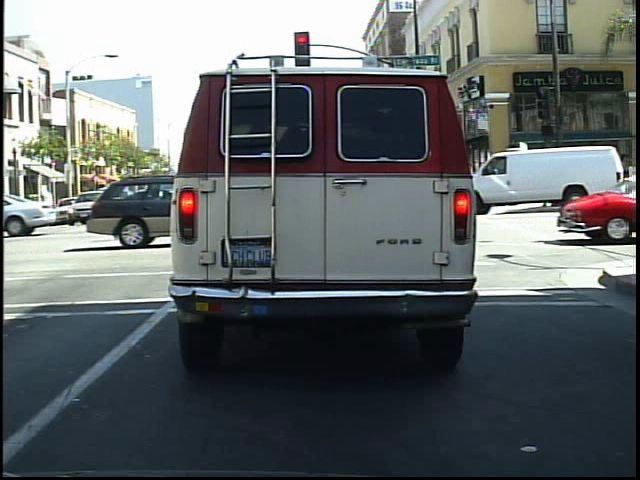person: (579, 143, 604, 210), (538, 152, 562, 210), (514, 155, 536, 207)
